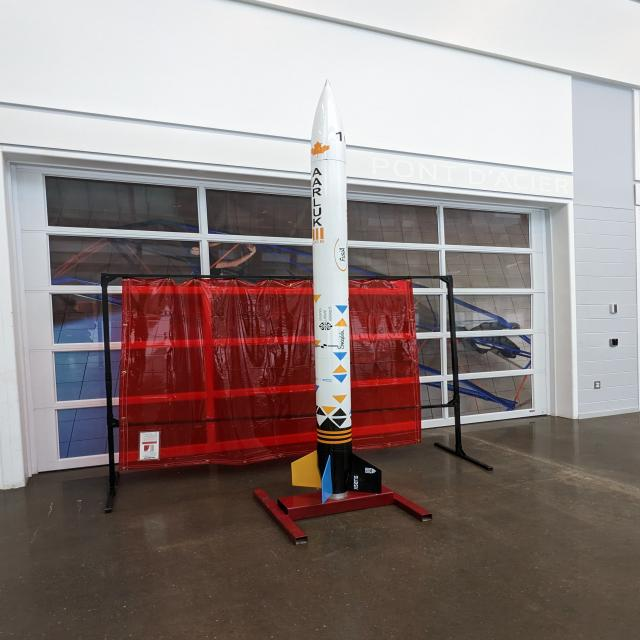Rocket: (291, 79, 382, 505)
